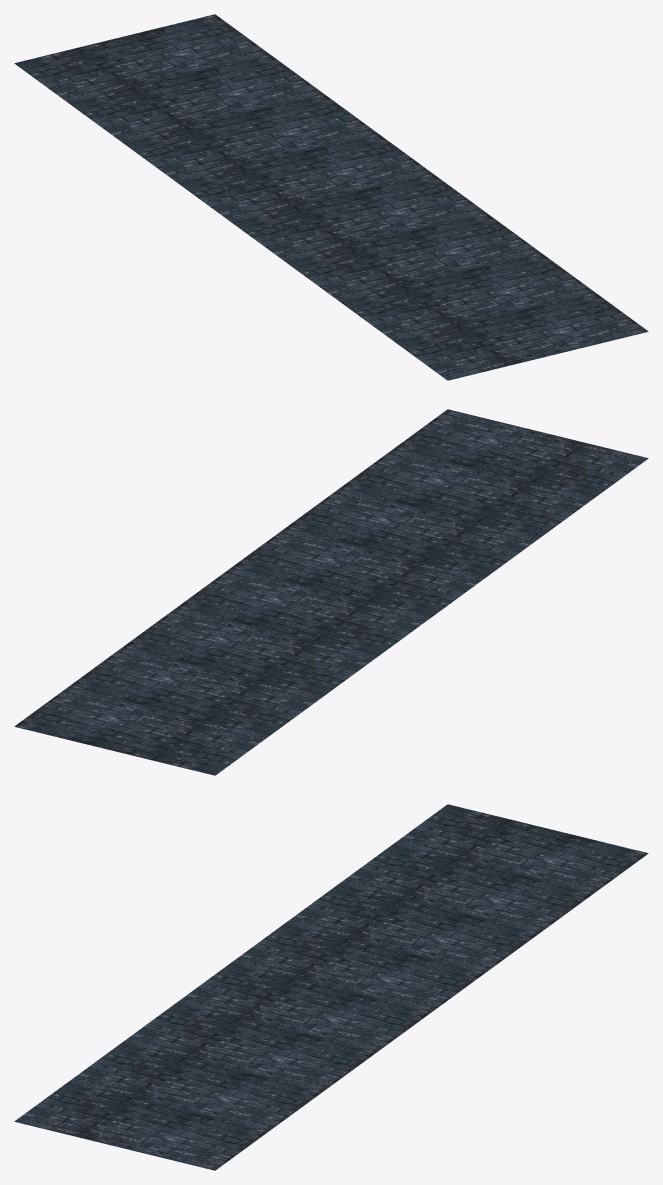
3 renders of one model, top to bottom at view 1: azimuth 30°, elevation 25°; view 2: azimuth 150°, elevation 25°; view 3: azimuth 330°, elevation 25°, orthographic.
Visible parts, largest first — view 1: xs_wj33; view 2: xs_wj33; view 3: xs_wj33.
Part boxes in pixels (x1,y1,x2,y2): xs_wj33: (14,14,648,380); xs_wj33: (14,409,648,775); xs_wj33: (14,804,648,1170).
Bounding box in the file's own units: 762 × 0 × 2845.
1 material, 1 textured.
